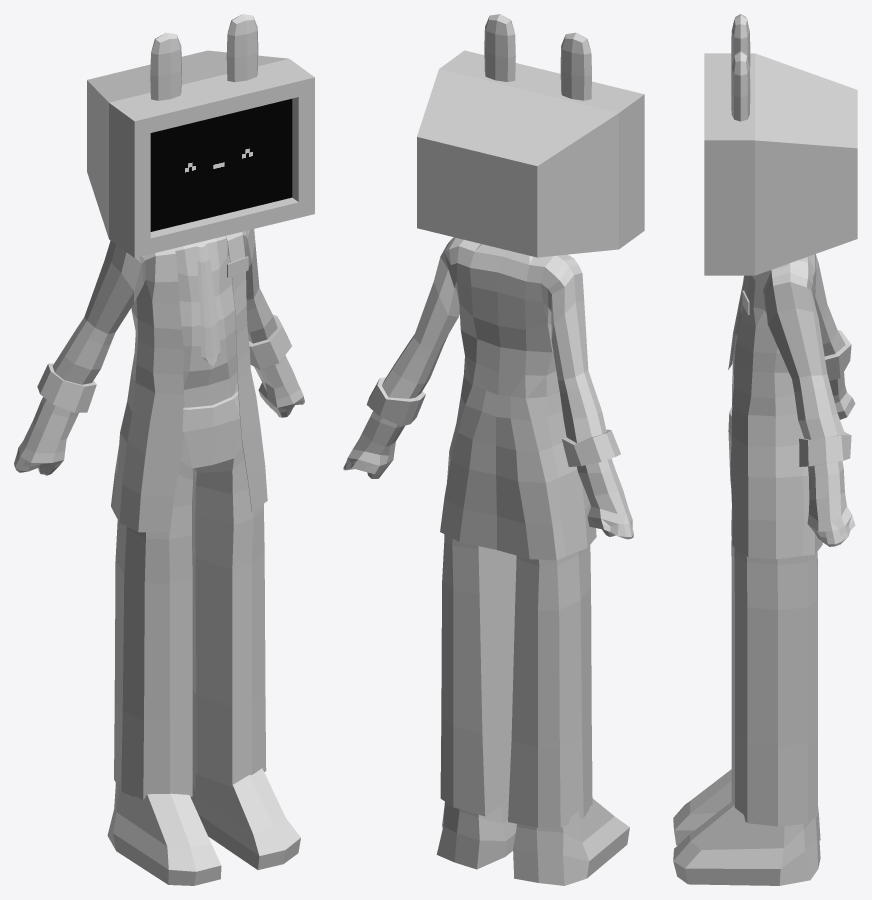
Rendered from zero.fbx.
3 views of the same model, side by side, from view 1: azimuth 30°, elevation 25°; view 2: azimuth 150°, elevation 25°; view 3: azimuth 270°, elevation 25° (orthographic).
Parts seen in each view (by area): view 1: body.015, body.016, body.013, Cube.018, Plane, Cube.001, Cube.019, Cube.006; view 2: body.016, body.015, Cube.018, body.013, Cube.006, Cube.001; view 3: Cube.018, body.016, body.015, body.013, Cube.006, Cube.001.
Boxes of the visible parts, x1,y1,x2,y2 form: body.015: (114, 391, 266, 800); body.016: (37, 229, 291, 532); body.013: (14, 236, 304, 885); Cube.018: (87, 50, 314, 257); Plane: (150, 98, 292, 231); Cube.001: (150, 32, 181, 100); Cube.019: (195, 241, 220, 366); Cube.006: (226, 14, 258, 82); body.016: (366, 237, 620, 560); body.015: (440, 534, 592, 827); Cube.018: (417, 50, 644, 257); body.013: (343, 411, 633, 885); Cube.006: (484, 14, 515, 81); Cube.001: (560, 32, 591, 100); Cube.018: (704, 53, 857, 275); body.016: (730, 254, 851, 559); body.015: (728, 406, 817, 826); body.013: (673, 275, 855, 885); Cube.006: (731, 51, 750, 121); Cube.001: (731, 14, 750, 72).
Size of the model in its own units: 206 by 567 by 116.
Materials: 2 (1 with a texture image).
